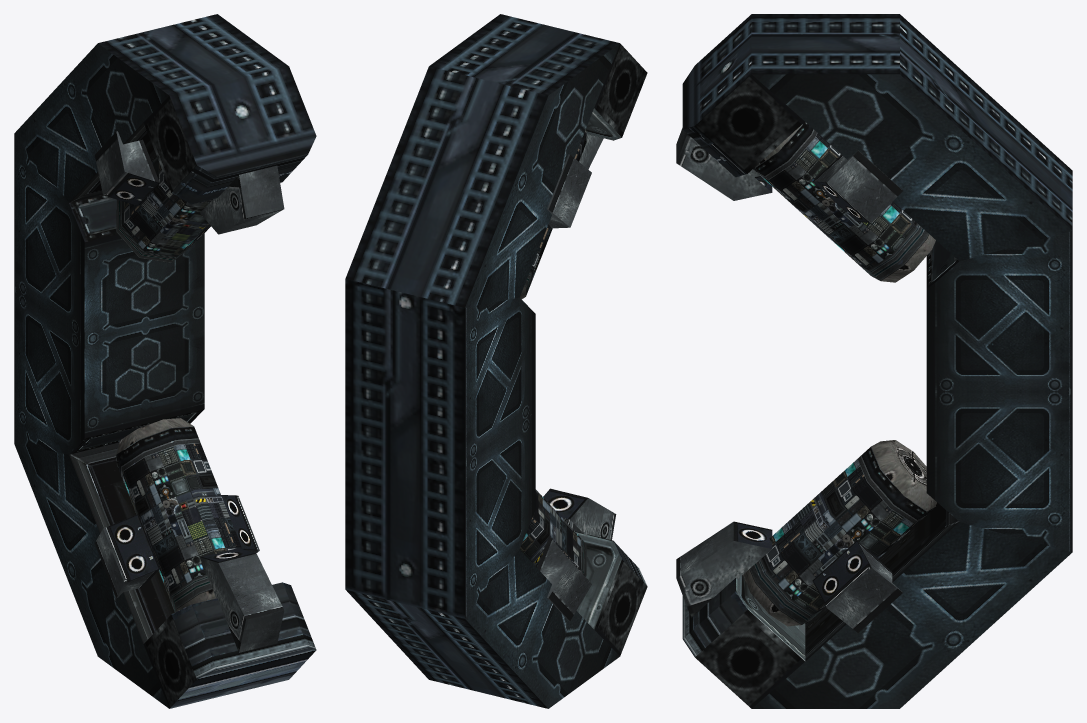
The model's file is Battery_arch01.FBX.
3 views of the same model, side by side, from view 1: azimuth 30°, elevation 25°; view 2: azimuth 150°, elevation 25°; view 3: azimuth 270°, elevation 25° (orthographic). The views are drawn at different scales.
Visible parts, largest first — view 1: Battery_arch01, Liquid; view 2: Battery_arch01, Liquid; view 3: Battery_arch01, Liquid.
Boxes of the visible parts, box(x1,y1,x2,y2) form: Battery_arch01: box(14, 14, 316, 708); Liquid: box(122, 157, 241, 602); Battery_arch01: box(345, 14, 647, 708); Liquid: box(520, 149, 580, 569); Battery_arch01: box(676, 14, 1072, 708); Liquid: box(760, 133, 921, 613).
Size of the model in its own units: 125 by 543 by 307.
